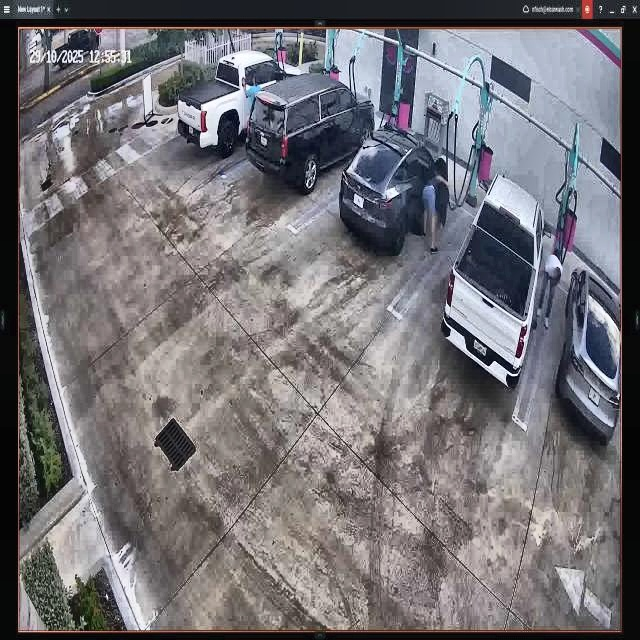Car: (442, 177, 552, 387), (247, 74, 375, 193), (341, 128, 446, 252), (178, 50, 302, 151)
